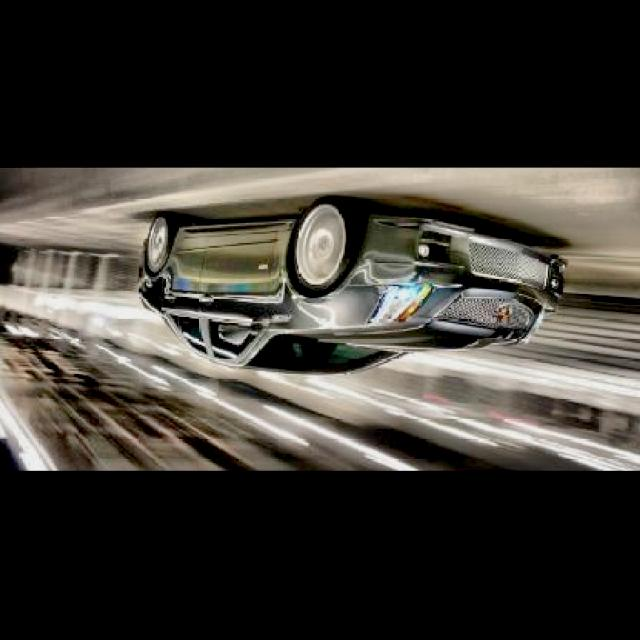black: (136, 195, 566, 373)
